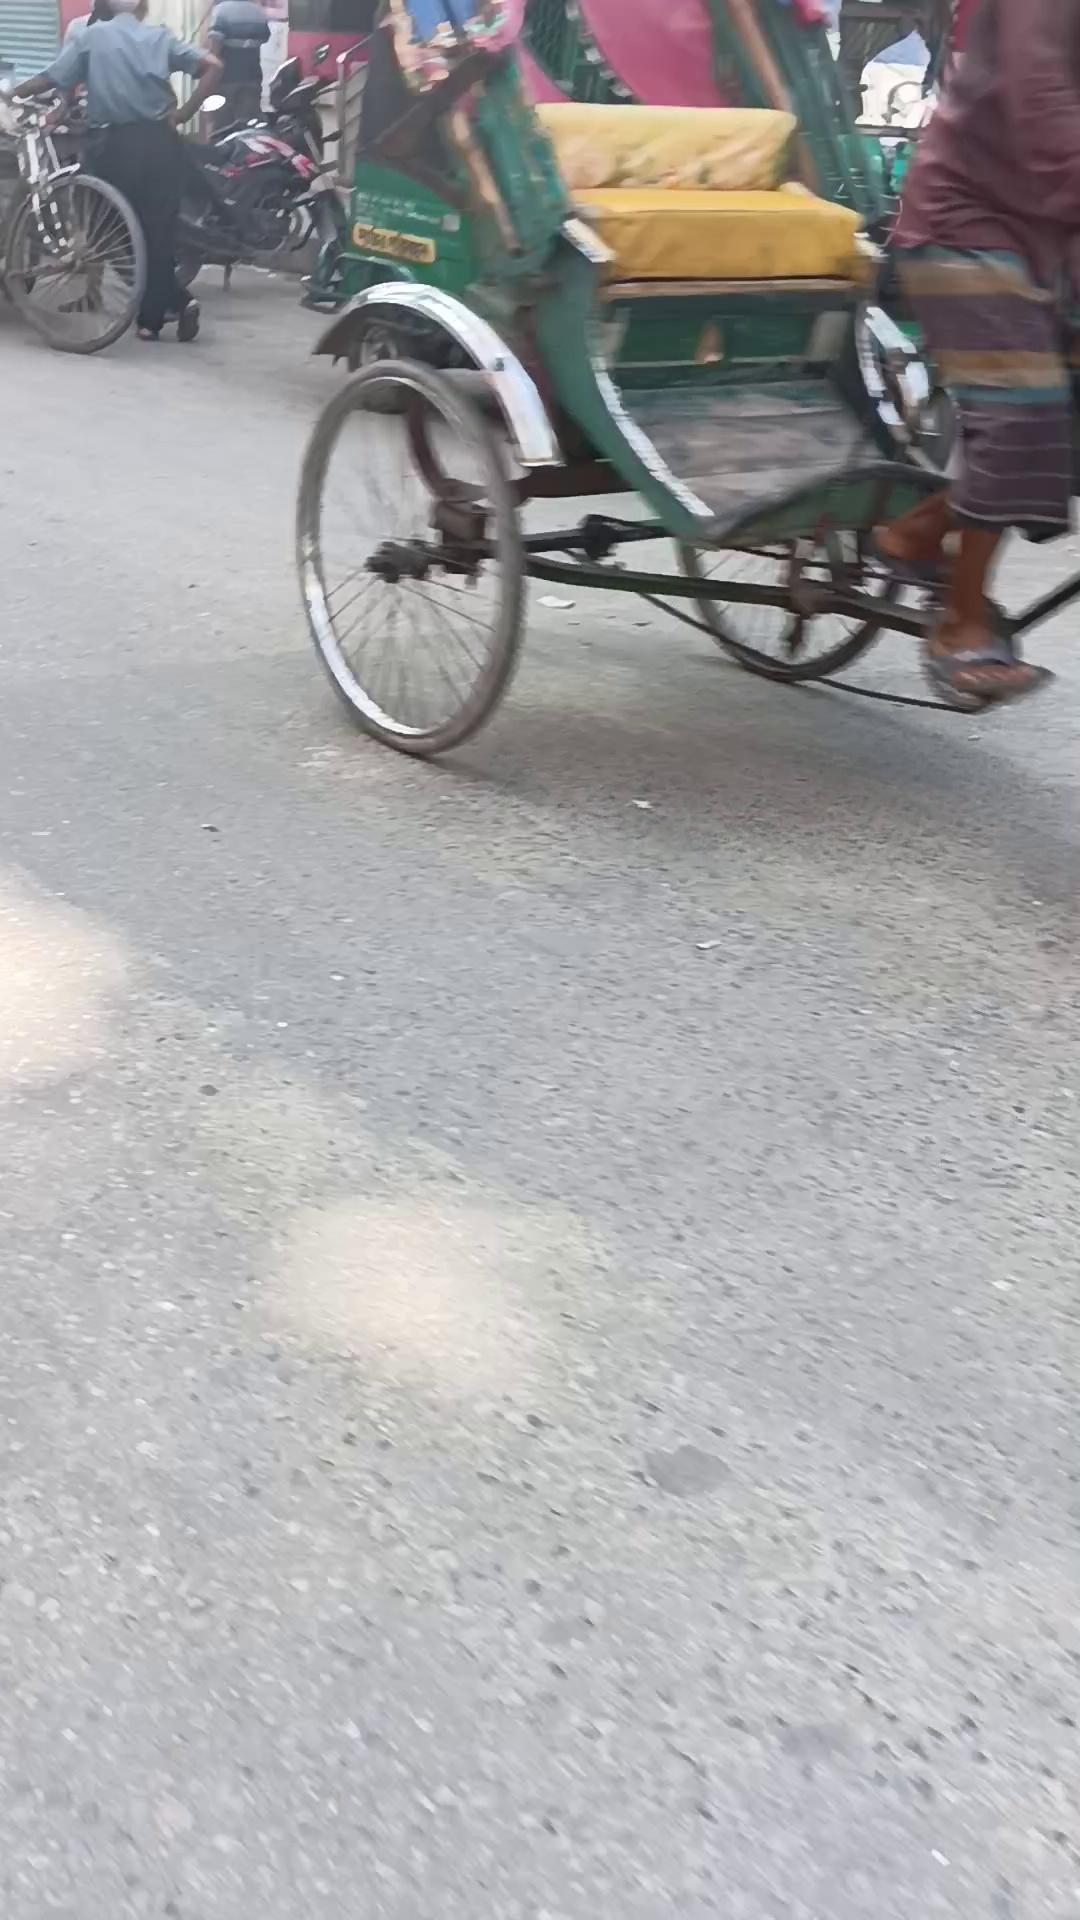Curb: (876, 1, 1079, 702), (11, 0, 225, 342)
Fence: (295, 0, 1080, 756)
